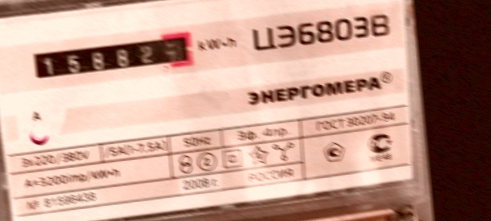1: (41, 55, 54, 75)
2: (139, 44, 153, 64)
5: (65, 53, 79, 74)
7: (164, 48, 177, 63)
8: (90, 49, 104, 71), (115, 47, 129, 69)
screen: (24, 25, 203, 87)
